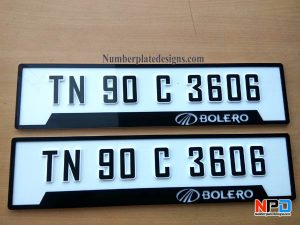number_plate: (10, 138, 297, 201), (15, 62, 291, 127)
